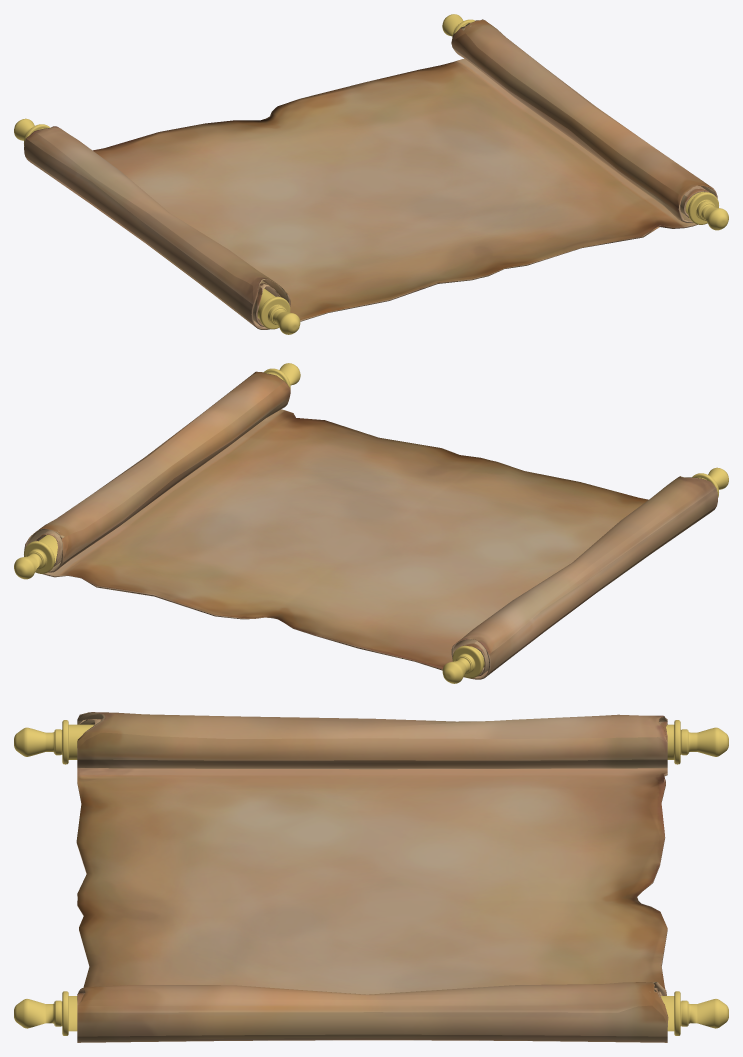
The model's file is map.fbx.
3 views of the same model, one above another, from view 1: azimuth 30°, elevation 25°; view 2: azimuth 150°, elevation 25°; view 3: azimuth 270°, elevation 25° (orthographic). The views are drawn at different scales.
Visible parts, largest first — view 1: Paper, Stick1, Stick2; view 2: Paper, Stick2, Stick1; view 3: Paper, Stick1, Stick2.
Part boxes in pixels (<box>): Paper: <box>24,19,717,329</box>; Stick1: <box>14,118,300,334</box>; Stick2: <box>442,14,728,230</box>; Paper: <box>24,371,717,679</box>; Stick2: <box>14,363,300,579</box>; Stick1: <box>442,467,728,683</box>; Paper: <box>76,712,668,1042</box>; Stick1: <box>14,720,728,764</box>; Stick2: <box>14,991,728,1035</box>.
Size of the model in its own units: 392 by 33.89 by 401.
Materials: 2 (1 with a texture image).
